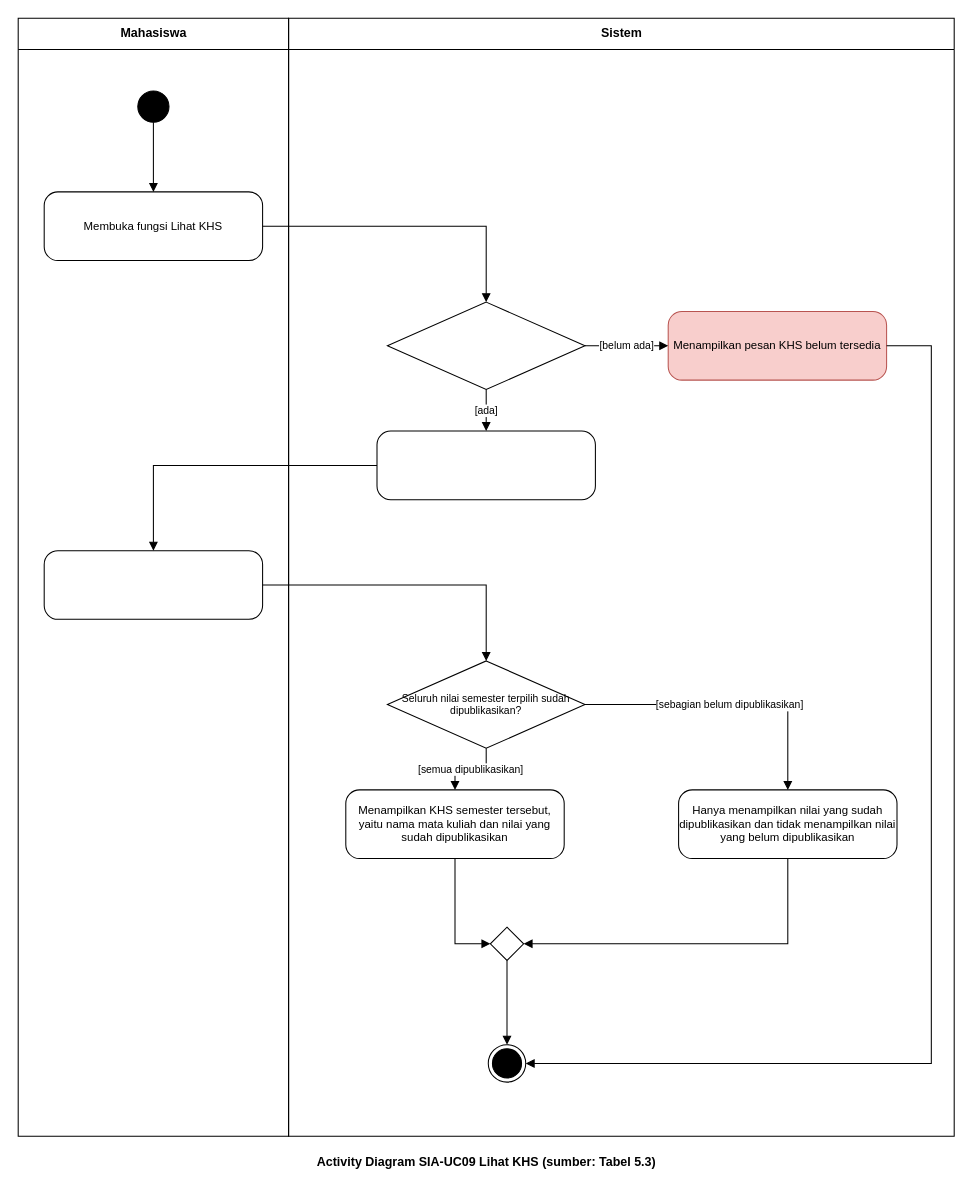
The diagram is 972 pixels wide and 1196 high, and some of its shapes have lost their labels. The centre of each missing label's shape, as x and y in pixels:
"Ada semester yang nilainya sudah dipublikasikan?" goes at pixel 485 345.
"Memilih semester" goes at pixel 153 584.
"Menampilkan daftar semester yang nilainya sudah dipublikasikan" goes at pixel 485 465.
